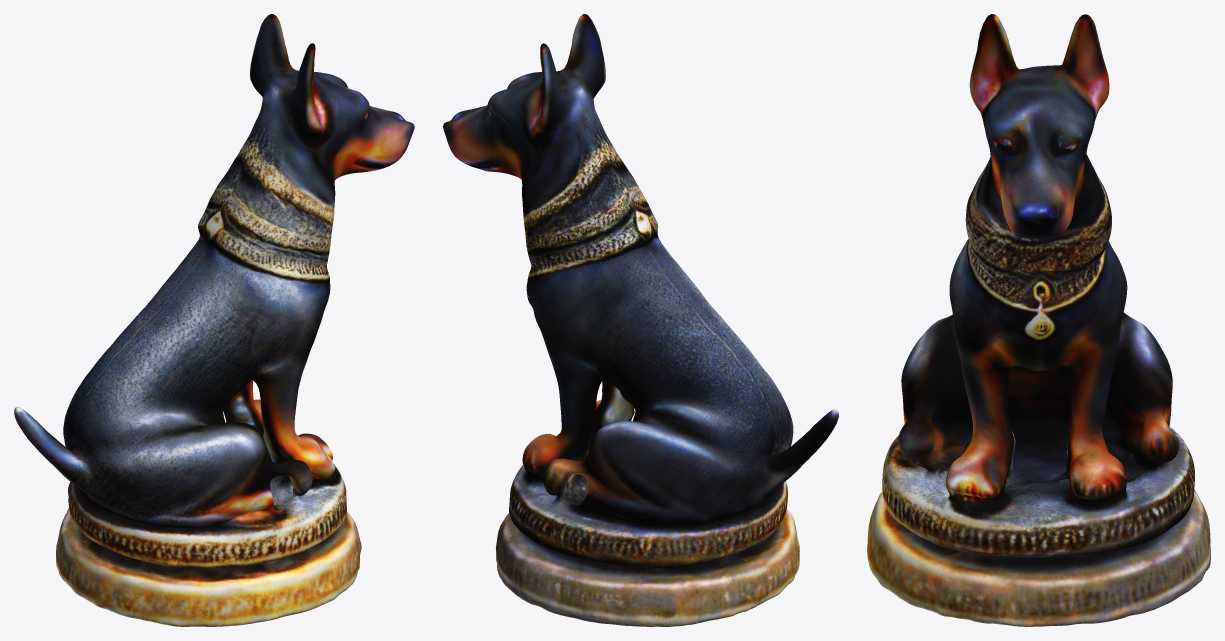
File: Queen-DobermanPinscher.glb
3 renders of one model, left to right at view 1: azimuth 30°, elevation 25°; view 2: azimuth 150°, elevation 25°; view 3: azimuth 270°, elevation 25°, orthographic. The views are drawn at different scales.
Parts seen in each view (by area): view 1: high_poly; view 2: high_poly; view 3: high_poly.
Part boxes in pixels (x1,y1,x2,y2): high_poly: [14, 14, 414, 626]; high_poly: [443, 14, 838, 626]; high_poly: [867, 14, 1210, 626].
Bounding box in the file's own units: 0.7944 × 1 × 0.5292.
1 material, 1 textured.
